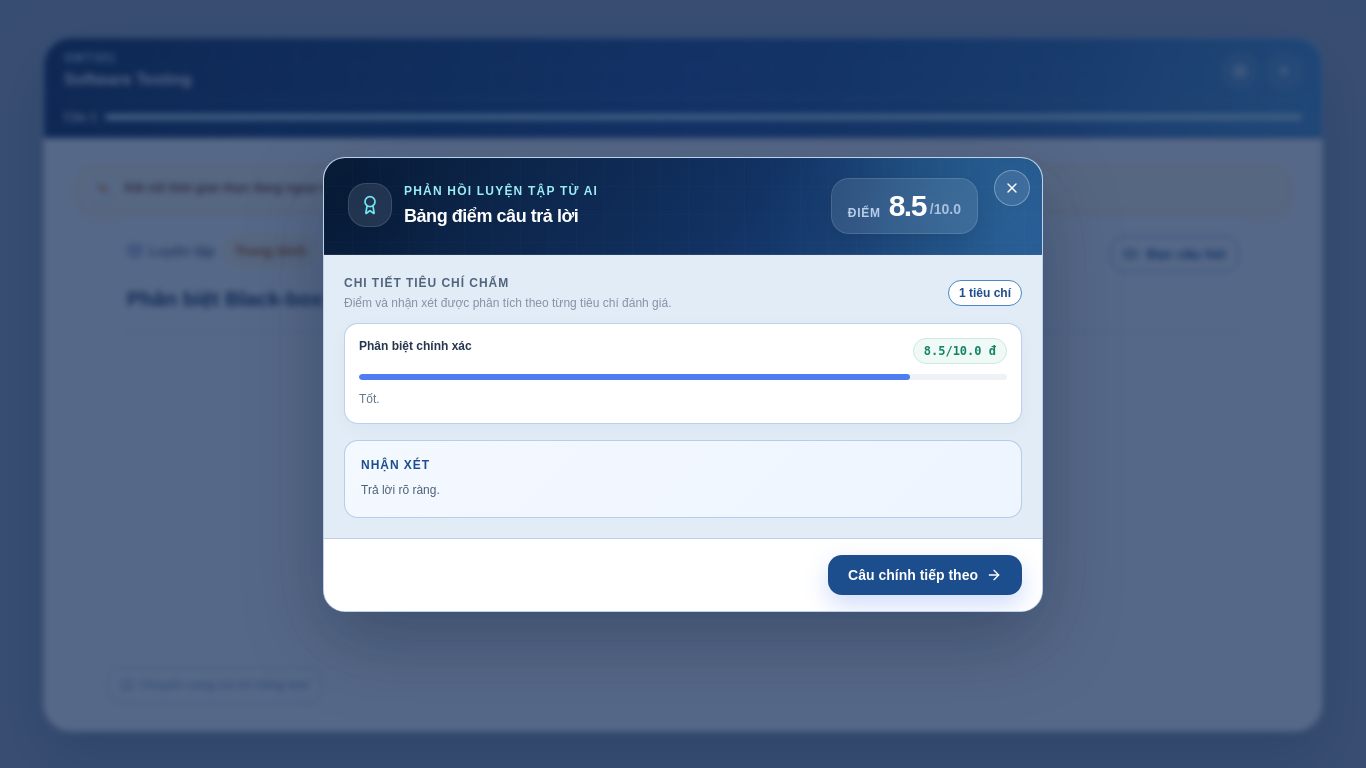
PracticeSessionPage M3 fixes › clears pendingAnswerId on grading completion and renders enabled recovery controls after 500 + Đóng bảng điểm
Expected: the heading "Bảng điểm câu trả lời" is shown, x1=404 y1=205 x2=598 y2=228
Click the button "Câu chính tiếp theo" at (925, 574), box x1=828 y1=554 x2=1022 y2=594
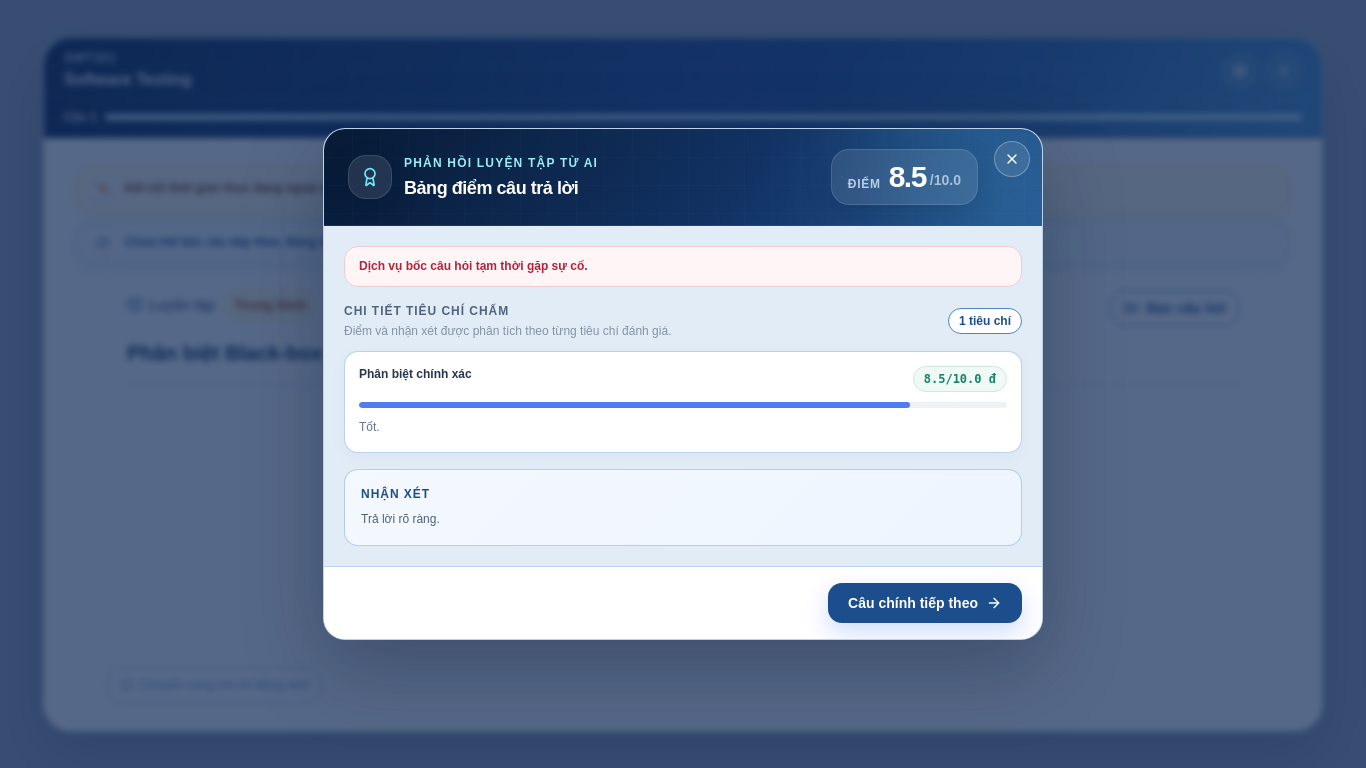
Now the text "Dịch vụ bốc câu hỏi tạm thời gặp sự cố." is shown, box x1=344 y1=246 x2=1022 y2=287
Click the button named "Đóng bảng điểm" at (1012, 159), box x1=994 y1=141 x2=1030 y2=177
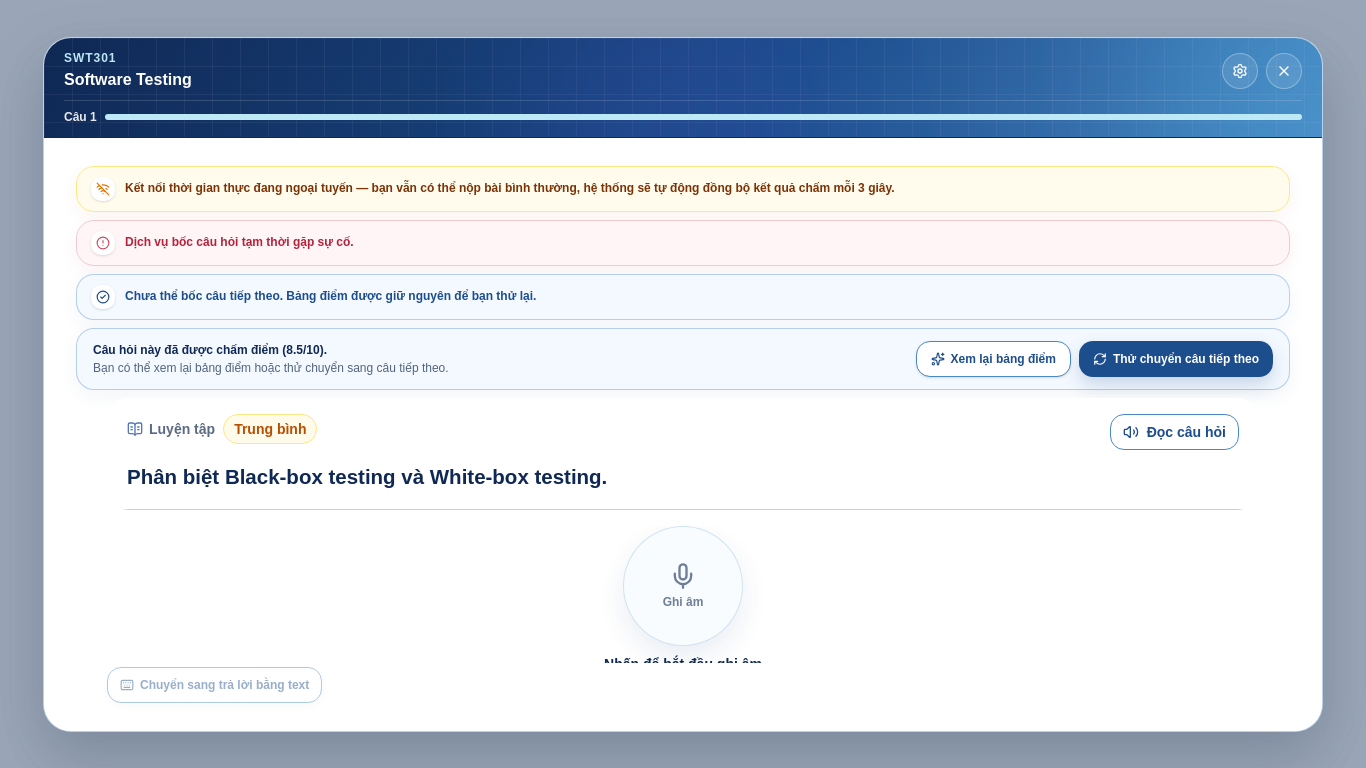
Now the heading "Bảng điểm câu trả lời" is gone
Now the button "Xem lại bảng điểm" is enabled
Now the button "Thử chuyển câu tiếp theo" is enabled, box x1=1079 y1=340 x2=1273 y2=376
Click the button "Xem lại bảng điểm" at (993, 358), box x1=916 y1=340 x2=1071 y2=376
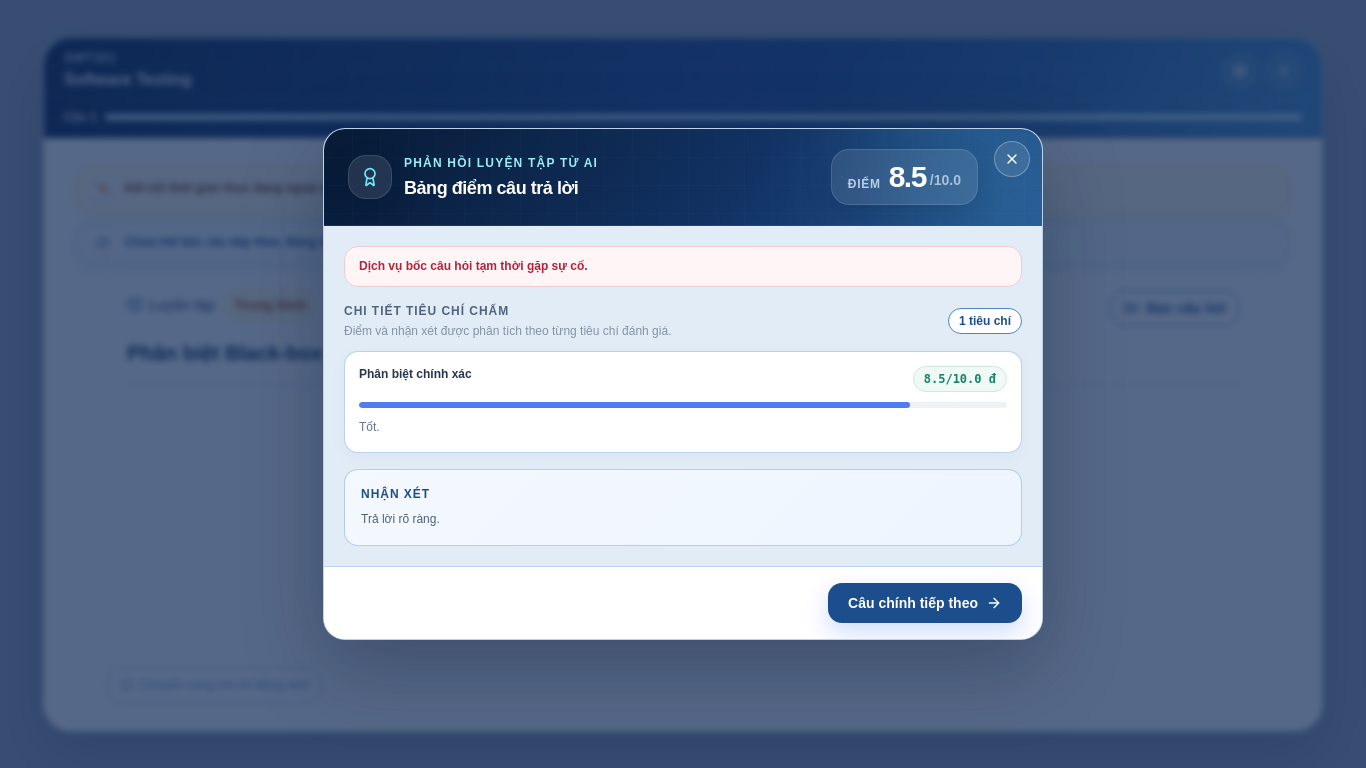
Now the heading "Bảng điểm câu trả lời" is shown, box x1=404 y1=176 x2=598 y2=199
Click the button named "Đóng bảng điểm" at (1012, 159), box x1=994 y1=141 x2=1030 y2=177
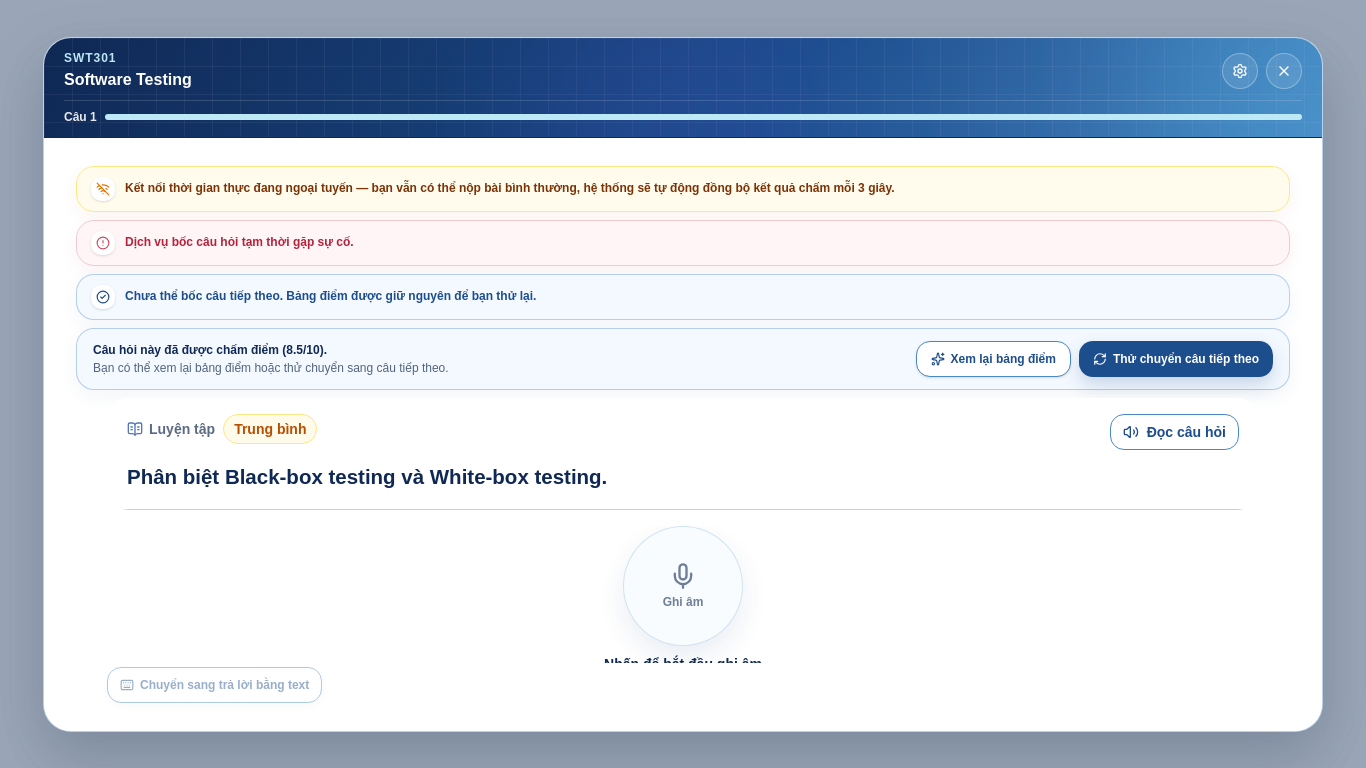
Now the heading "Bảng điểm câu trả lời" is gone
Click the button "Thử chuyển câu tiếp theo" at (1176, 358), box x1=1079 y1=340 x2=1273 y2=376
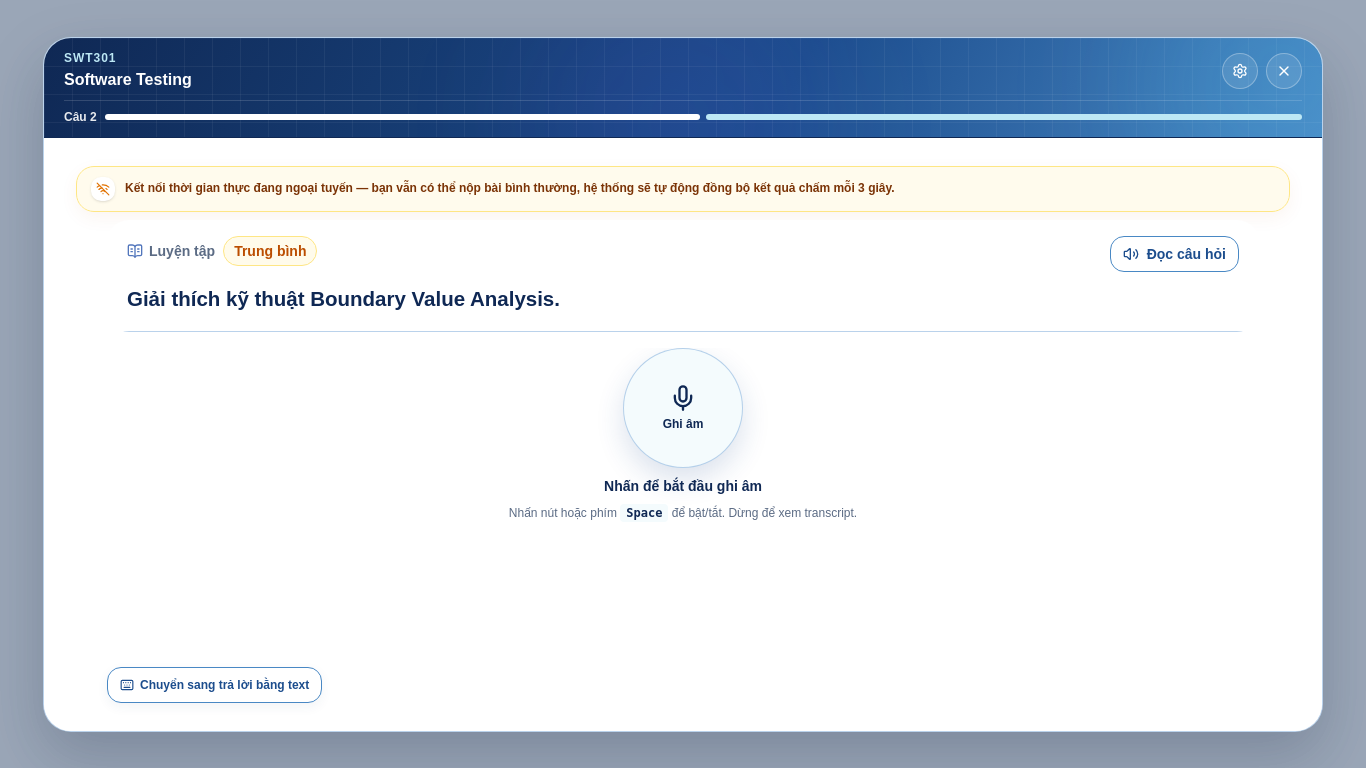
Now the heading "Giải thích kỹ thuật Boundary Value Analysis." is shown, box x1=127 y1=286 x2=560 y2=310
Now the button "Thử chuyển câu tiếp theo" is gone
